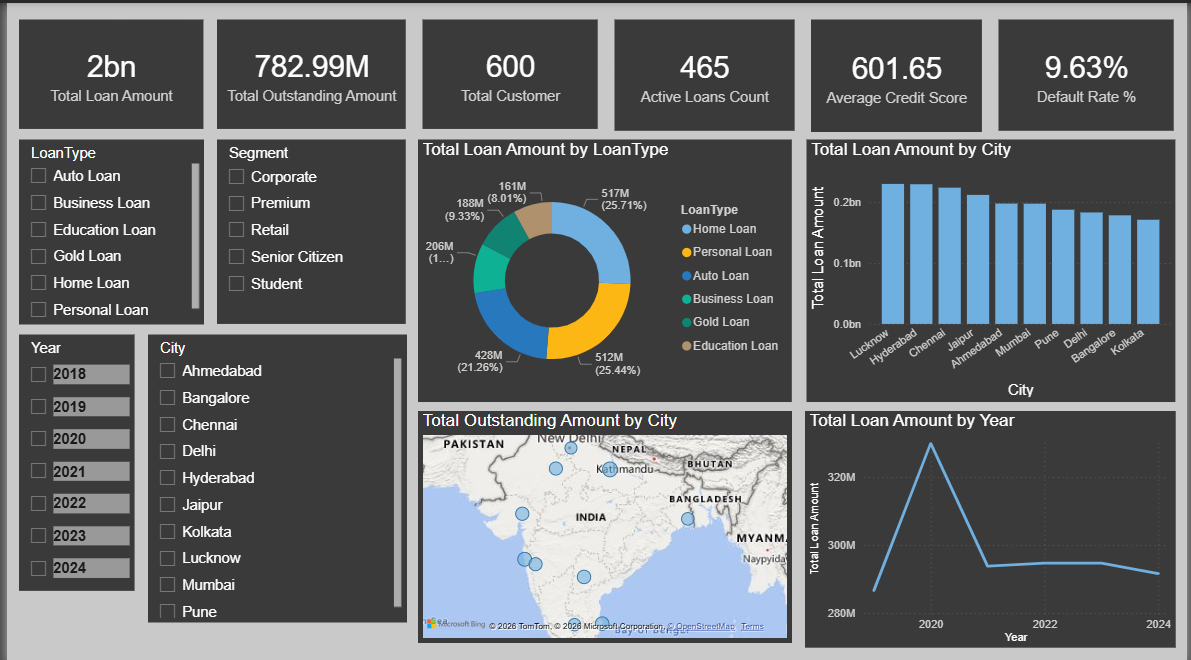

This screenshot's page, from the dashboard's own definition file:
{"tool":"powerbi","page":{"name":"Overview","canvas":[1280,720],"ordinal":0},"visuals":[{"type":"card","fields":{"Values":["Loans.Total Outstanding Amount"]},"box":[227.7,17.9,204.9,118.7],"z":0},{"type":"card","fields":{"Values":["Loans.Total Loan Amount"]},"box":[13,17.9,200.1,118.7],"z":1000},{"type":"card","fields":{"Values":["Loans.Total Customer"]},"box":[450.6,17.9,190.3,118.7],"z":2000},{"type":"card","fields":{"Values":["Loans.Average Credit Score"]},"box":[871.8,17.9,185.4,122],"z":3000},{"type":"card","fields":{"Values":["Loans.Active Loans Count"]},"box":[658.8,17.9,195.2,120.4],"z":4000},{"type":"card","fields":{"Values":["Loans.Default Rate %"]},"box":[1075.1,17.9,190.3,120.4],"z":5000},{"type":"donutChart","fields":{"Category":["Loans.LoanType"],"Y":["Loans.Total Loan Amount"]},"box":[445.7,148,405,284.6],"z":6000},{"type":"clusteredColumnChart","fields":{"Category":["Customers.City"],"Y":["Loans.Total Loan Amount"]},"box":[866.9,148,400.1,284.6],"z":7000},{"type":"lineChart","fields":{"Y":["Loans.Total Loan Amount"],"Category":["DateDim.Year"]},"box":[865.3,442.4,401.8,257],"z":8000},{"type":"map","fields":{"Size":["Loans.Total Outstanding Amount"],"Category":["Customers.City"]},"box":[445.7,442.4,405,250.5],"z":9000},{"type":"slicer","fields":{"Values":["DateDim.Year"]},"box":[13,359.5,125.2,278.1],"z":10000},{"type":"slicer","fields":{"Values":["Loans.LoanType"]},"box":[13,148,200.1,200.1],"z":11000},{"type":"slicer","fields":{"Values":["Customers.City"]},"box":[152.9,359.5,279.8,312.3],"z":12000},{"type":"slicer","fields":{"Values":["Customers.Segment"]},"box":[227.7,148,204.9,200.1],"z":13000}]}

Visuals, with their boxes in screenshot pixels (x1, y1, x2, y2), scaled from the page's 1280x720 canvas onto the 1191x660 screenshot:
card - Loans.Total Outstanding Amount: crop(212, 16, 403, 125)
card - Loans.Total Loan Amount: crop(12, 16, 198, 125)
card - Loans.Total Customer: crop(419, 16, 596, 125)
card - Loans.Average Credit Score: crop(811, 16, 984, 128)
card - Loans.Active Loans Count: crop(613, 16, 795, 127)
card - Loans.Default Rate %: crop(1000, 16, 1177, 127)
donutChart - Loans.LoanType x Loans.Total Loan Amount: crop(415, 136, 792, 397)
clusteredColumnChart - Customers.City x Loans.Total Loan Amount: crop(807, 136, 1179, 397)
lineChart - Loans.Total Loan Amount x DateDim.Year: crop(805, 406, 1179, 641)
map - Loans.Total Outstanding Amount x Customers.City: crop(415, 406, 792, 635)
slicer - DateDim.Year: crop(12, 330, 129, 584)
slicer - Loans.LoanType: crop(12, 136, 198, 319)
slicer - Customers.City: crop(142, 330, 403, 616)
slicer - Customers.Segment: crop(212, 136, 403, 319)
